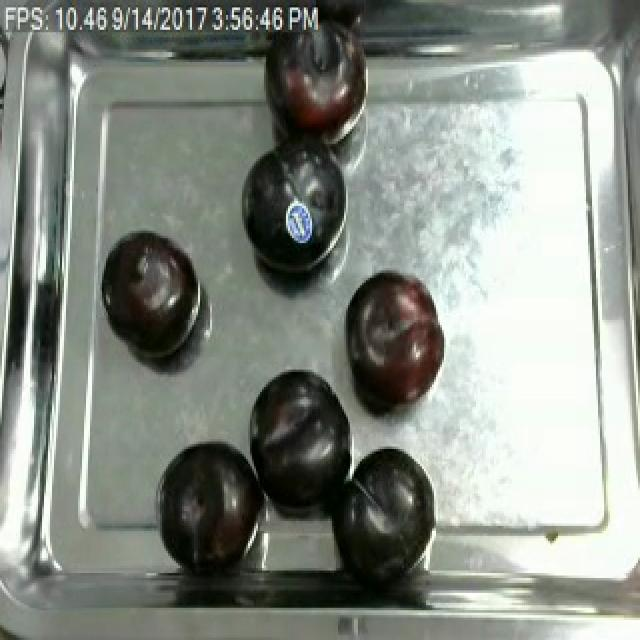Fruit: (236, 129, 354, 285), (336, 265, 450, 422), (242, 360, 358, 511), (332, 439, 444, 578), (154, 434, 266, 571), (98, 226, 202, 362)
